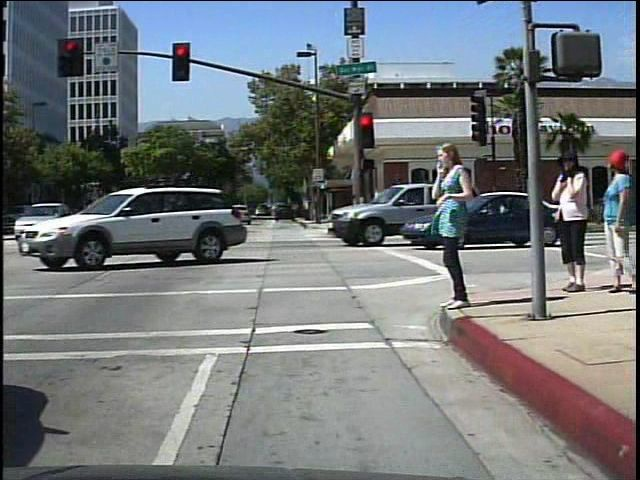person: (428, 135, 481, 312), (548, 146, 594, 297), (595, 146, 632, 298)
